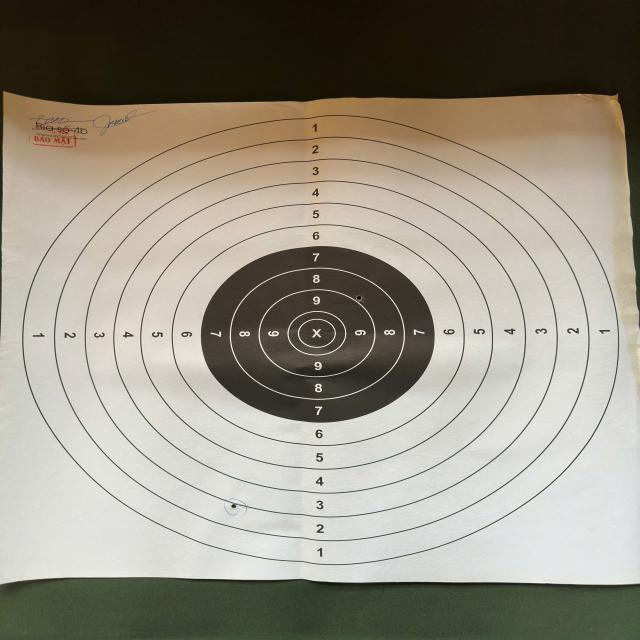bullet: (229, 502, 237, 510), (357, 295, 363, 302)
target: (2, 94, 638, 584)
